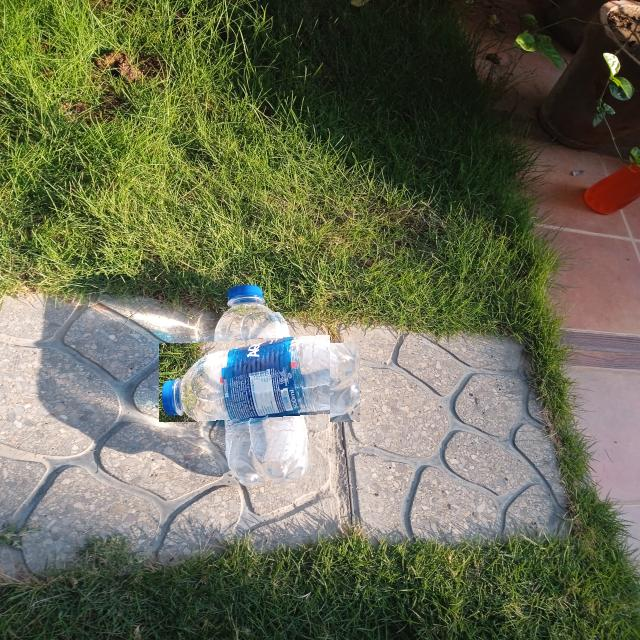Plastic: (189, 312, 330, 453)
